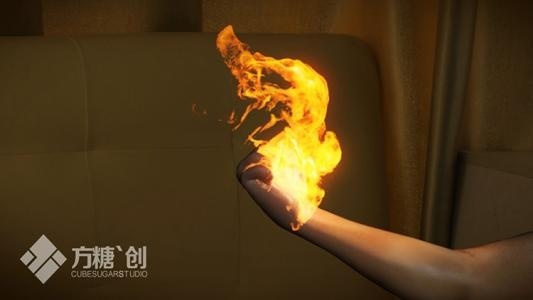fire: (217, 26, 346, 230)
